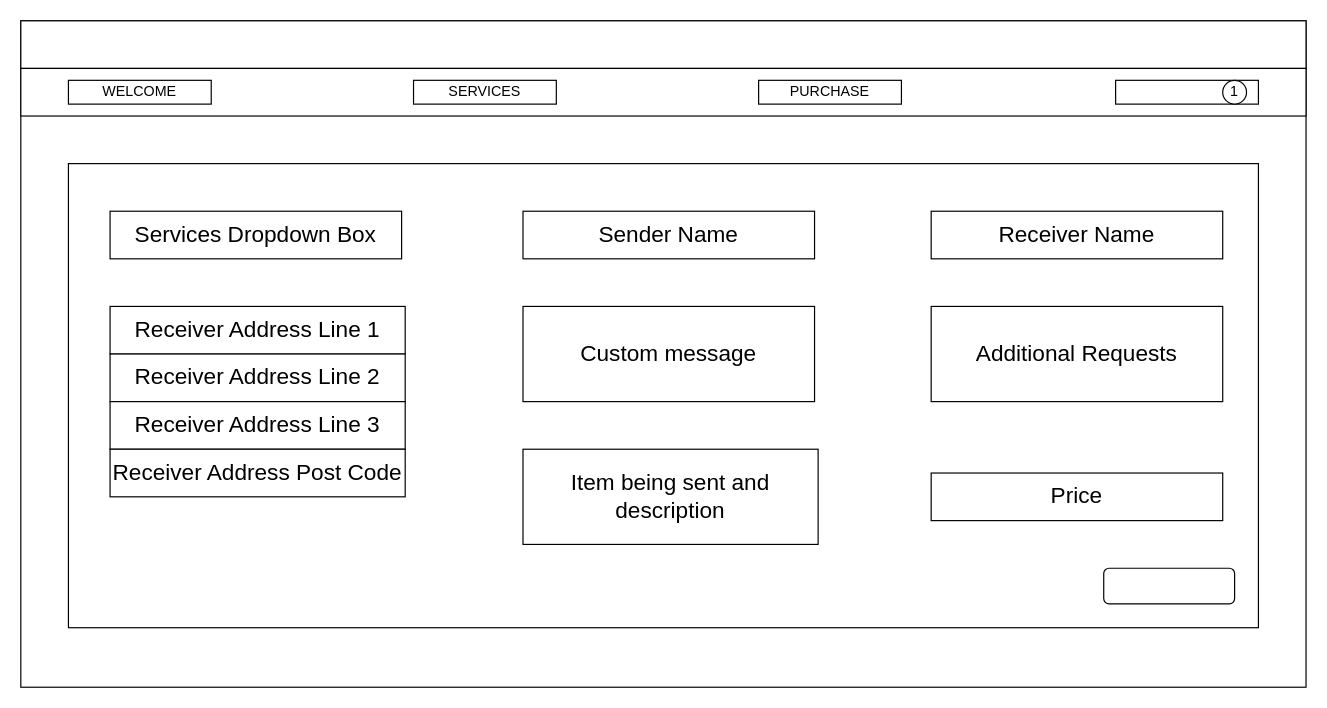
The diagram is 1327 pixels wide and 708 high, and some of its shapes have lost their labels. Each missing label, with the box of its shape:
Add To Cart: (1103, 567, 1235, 604)
CART: (1114, 79, 1258, 104)
Sky Runners: (20, 20, 1306, 68)
